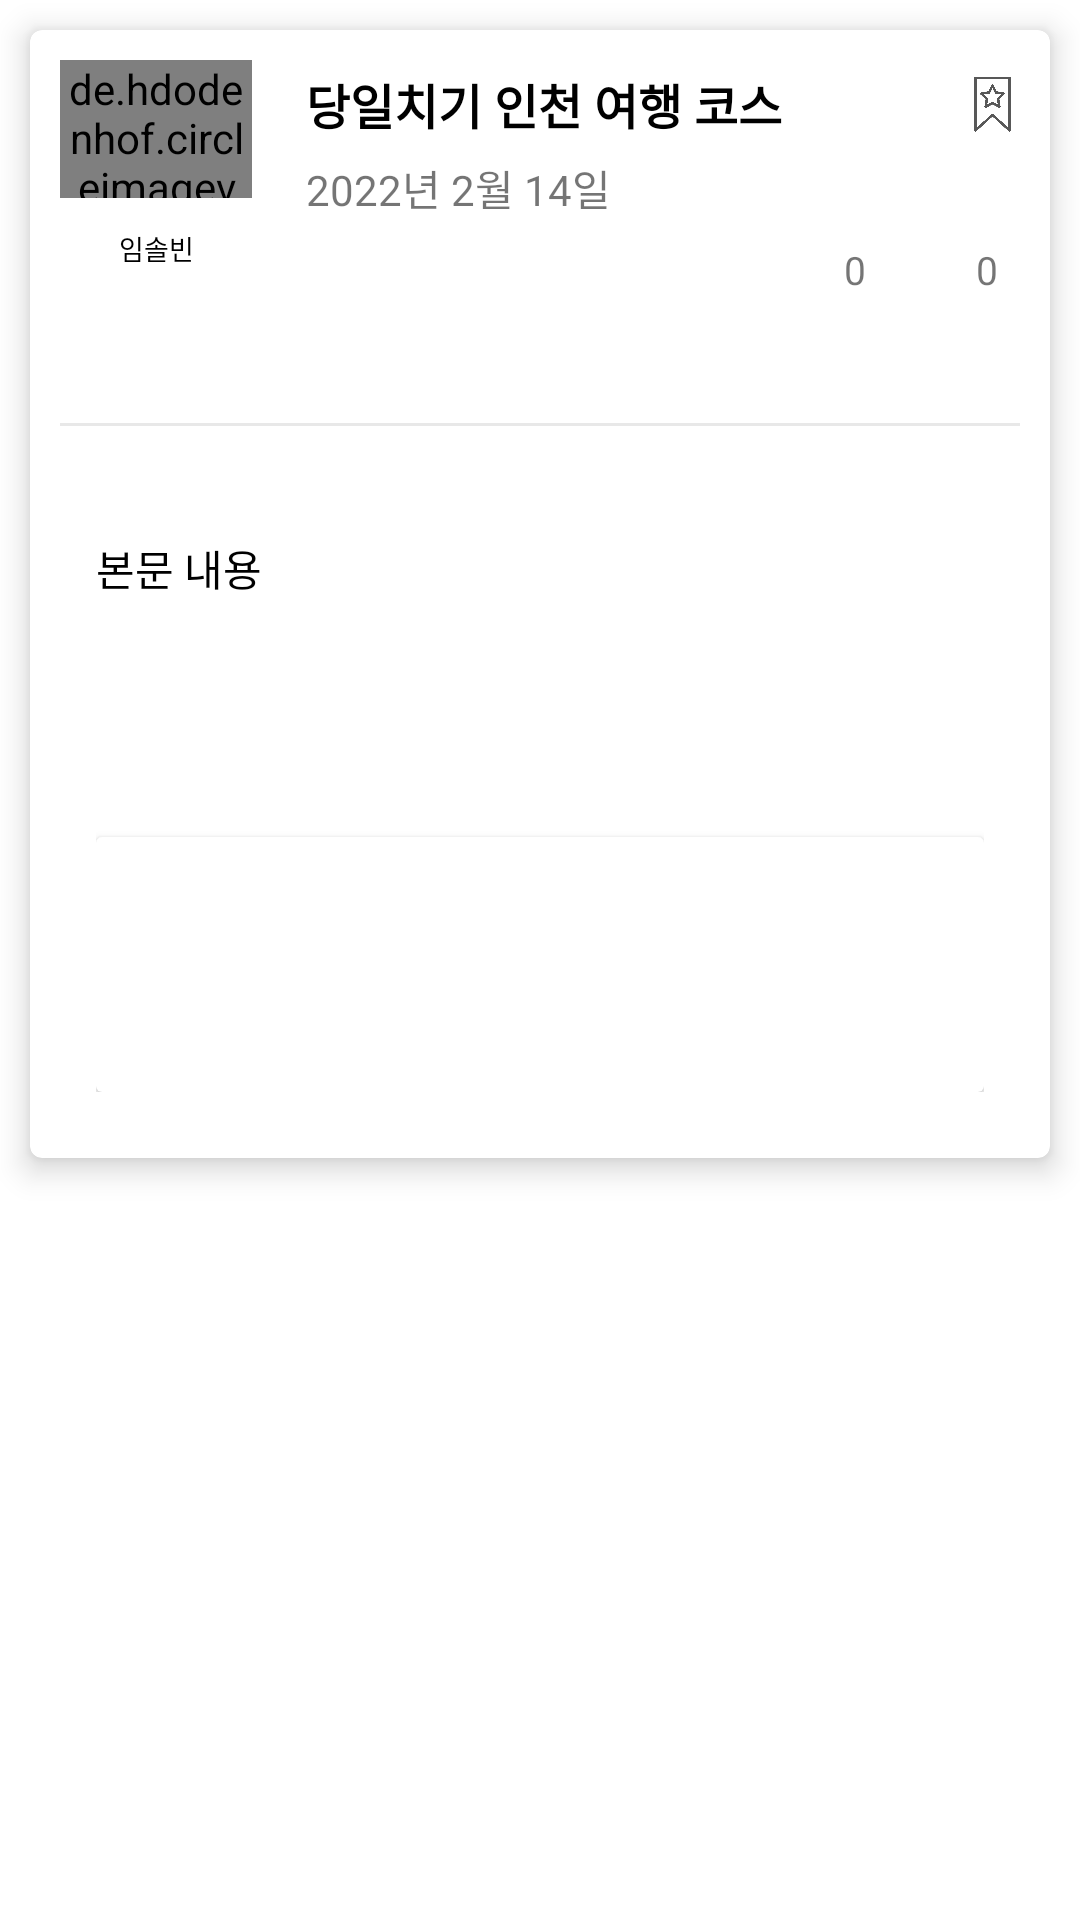

Icon click points for this 1080 × 1920 phone screenshot, format point (x, y):
bookmarkgray: point (992, 104)
